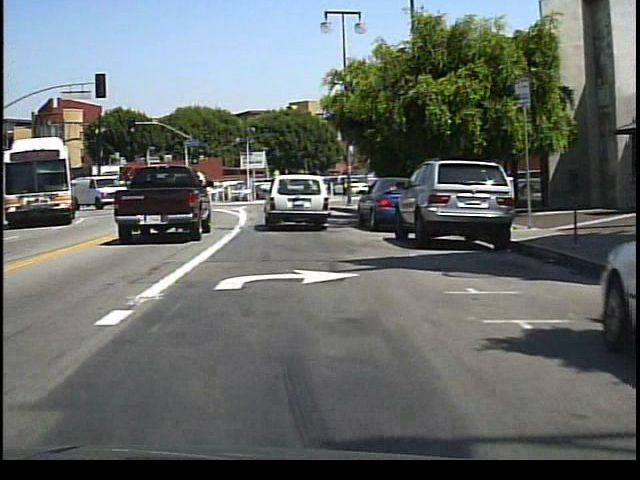person: (341, 176, 350, 203)
